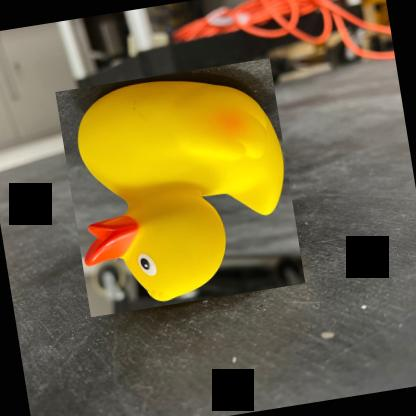duck: (55, 58, 305, 316)
